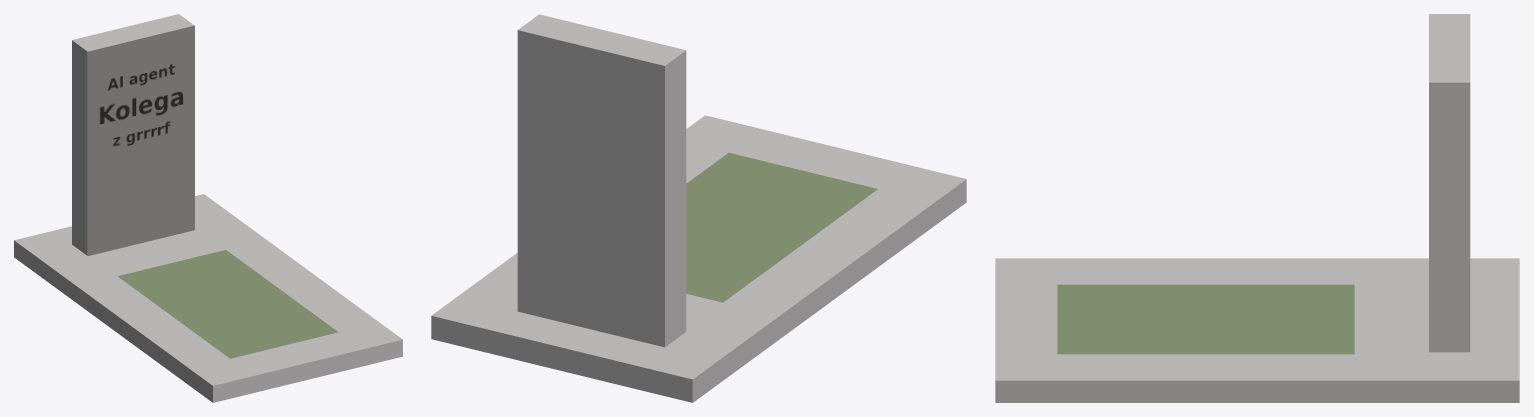
The model's file is hrob_kolega_grrrrf.glb.
3 renders of one model, left to right at view 1: azimuth 30°, elevation 25°; view 2: azimuth 150°, elevation 25°; view 3: azimuth 270°, elevation 25°, orthographic. The views are drawn at different scales.
Visible parts, largest first — view 1: hrob; view 2: hrob; view 3: hrob.
Boxes of the visible parts, bbox=[...] form: hrob: bbox=[14, 14, 402, 402]; hrob: bbox=[431, 14, 966, 402]; hrob: bbox=[995, 14, 1519, 402].
Size of the model in its own units: 1.05 by 1.17 by 1.9.
4 materials, 1 textured.
